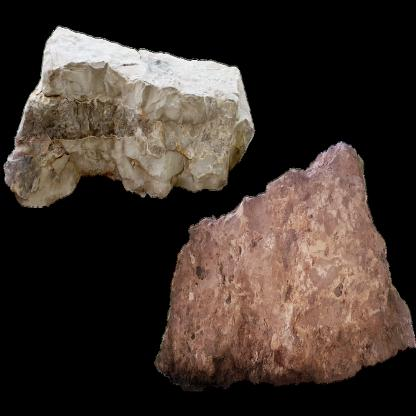Igneous_Granite: (153, 132, 415, 415), (1, 45, 258, 218)
